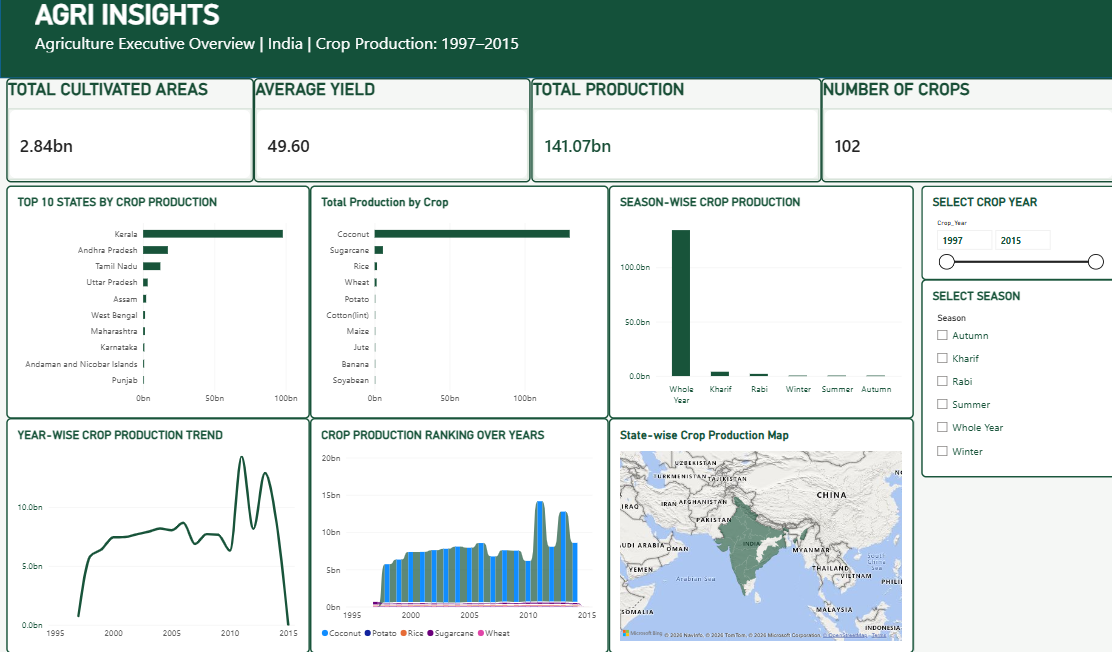

The dashboard page shown, as its layout file describes it:
{"tool":"powerbi","page":{"name":"Agriculture Overview","canvas":[1920,1080],"ordinal":0},"visuals":[{"type":"textbox","box":[10,580,280,280],"z":0},{"type":"textbox","box":[10,870,280,210],"z":1000},{"type":"textbox","box":[53.3,580,358.3,280],"z":2000},{"type":"textbox","box":[300,870,280,210],"z":3000},{"type":"cardVisual","title":"TOTAL PRODUCTION","fields":{"Data":["CropProduction.Total Production"]},"box":[874,132,478,172],"z":4000},{"type":"cardVisual","title":"TOTAL CULTIVATED AREAS","fields":{"Data":["CropProduction.Total Cultivated Area"]},"box":[10,132,408,172],"z":5000},{"type":"cardVisual","title":"AVERAGE YIELD","fields":{"Data":["CropProduction.Weighted Average Yield"]},"box":[418,132,456,172],"z":6000},{"type":"cardVisual","title":"NUMBER OF CROPS","fields":{"Data":["CropProduction.Number of Crops"]},"box":[1352,132,488,172],"z":7000},{"type":"clusteredBarChart","title":"TOP 10 STATES BY CROP PRODUCTION","fields":{"Category":["CropProduction.State_Name"],"Y":["CropProduction.Total Production"]},"box":[10,308,500,384],"z":8000},{"type":"clusteredBarChart","fields":{"Category":["CropProduction.Crop"],"Y":["CropProduction.Total Production"]},"box":[510,308,492,384],"z":9000},{"type":"lineChart","title":"YEAR-WISE CROP PRODUCTION TREND","fields":{"Category":["CropProduction.Crop_Year"],"Y":["CropProduction.Total Production"]},"box":[10,692,500,388],"z":10000},{"type":"clusteredColumnChart","title":"SEASON-WISE CROP PRODUCTION","fields":{"Category":["CropProduction.Season"],"Y":["CropProduction.Total Production"]},"box":[1002,308,502,384],"z":11000},{"type":"slicer","title":"SELECT CROP YEAR","fields":{"Values":["CropProduction.Crop_Year"]},"box":[1518,308,322,156],"z":12000},{"type":"slicer","title":"SELECT SEASON","fields":{"Values":["CropProduction.Season"]},"box":[1518,464,322,326],"z":13000},{"type":"shape","box":[0,0,1920,132],"z":14000},{"type":"textbox","title":"AGRI INSIGHTS","box":[57.6,0,901.5,131.7],"z":15000},{"type":"filledMap","title":"State-wise Crop Production Map","fields":{"Category":["MandiPrices.State"]},"box":[1002,692,502,388],"z":16000},{"type":"ribbonChart","title":"CROP PRODUCTION RANKING OVER YEARS","fields":{"Category":["CropProduction.Crop_Year"],"Series":["CropProduction.Crop"],"Y":["CropProduction.Total Production"]},"box":[510,692,492,388],"z":17000}]}

Visuals, with their boxes on the page's 1920x1080 design canvas (x1, y1, x2, y2). These are canvas units, not pixel positions in the 1112x652 screenshot, which may show the page scaled, cropped or inside an application window:
textbox: bbox=(10, 580, 290, 860)
textbox: bbox=(10, 870, 290, 1080)
textbox: bbox=(53, 580, 412, 860)
textbox: bbox=(300, 870, 580, 1080)
"TOTAL PRODUCTION" cardVisual: bbox=(874, 132, 1352, 304)
"TOTAL CULTIVATED AREAS" cardVisual: bbox=(10, 132, 418, 304)
"AVERAGE YIELD" cardVisual: bbox=(418, 132, 874, 304)
"NUMBER OF CROPS" cardVisual: bbox=(1352, 132, 1840, 304)
"TOP 10 STATES BY CROP PRODUCTION" clusteredBarChart: bbox=(10, 308, 510, 692)
clusteredBarChart - CropProduction.Crop x CropProduction.Total Production: bbox=(510, 308, 1002, 692)
"YEAR-WISE CROP PRODUCTION TREND" lineChart: bbox=(10, 692, 510, 1080)
"SEASON-WISE CROP PRODUCTION" clusteredColumnChart: bbox=(1002, 308, 1504, 692)
"SELECT CROP YEAR" slicer: bbox=(1518, 308, 1840, 464)
"SELECT SEASON" slicer: bbox=(1518, 464, 1840, 790)
shape: bbox=(0, 0, 1920, 132)
"AGRI INSIGHTS" textbox: bbox=(58, 0, 959, 132)
"State-wise Crop Production Map" filledMap: bbox=(1002, 692, 1504, 1080)
"CROP PRODUCTION RANKING OVER YEARS" ribbonChart: bbox=(510, 692, 1002, 1080)
